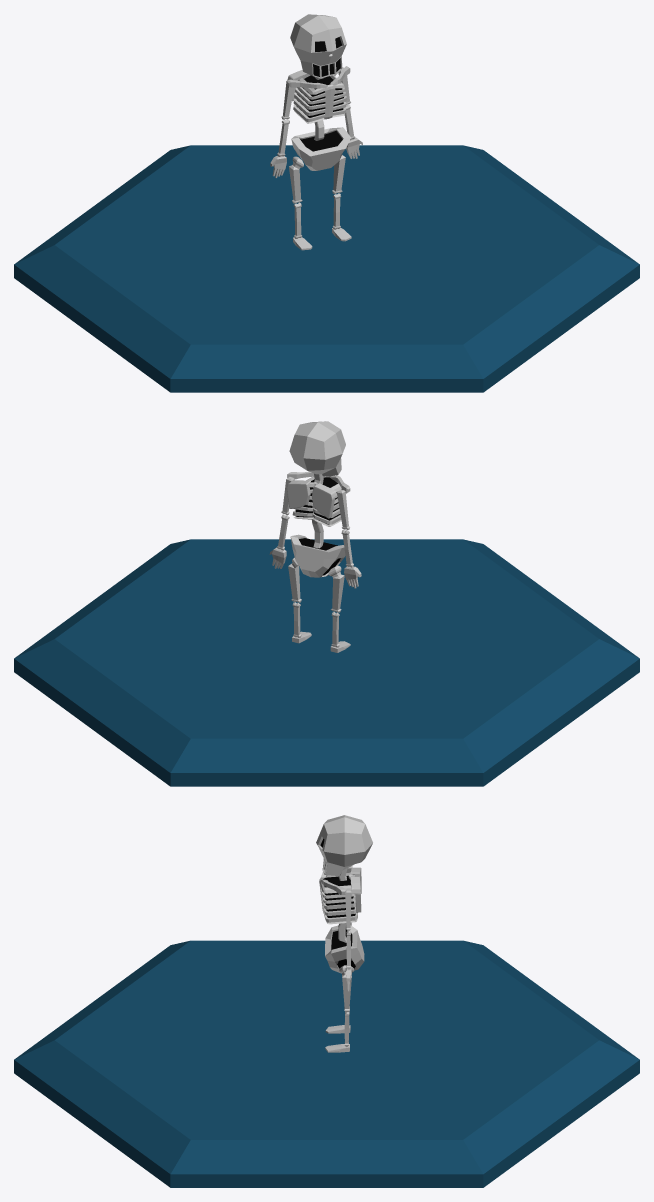
The model's file is Small_Figure_Scalone 1.fbx.
3 views of the same model, one above another, from view 1: azimuth 30°, elevation 25°; view 2: azimuth 150°, elevation 25°; view 3: azimuth 270°, elevation 25° (orthographic).
Parts seen in each view (by area): view 1: Lower Leg Right; view 2: Lower Leg Right; view 3: Lower Leg Right.
Part boxes in pixels (x1,y1,x2,y2): Lower Leg Right: (14, 14, 639, 392); Lower Leg Right: (14, 421, 639, 786); Lower Leg Right: (14, 815, 639, 1187).
Bounding box in the file's own units: 483 × 252 × 558.
